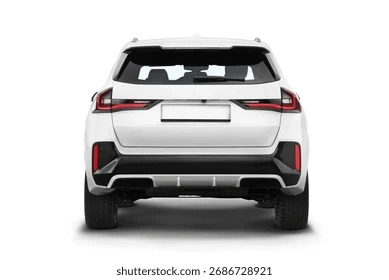car: (81, 32, 305, 237), (82, 34, 305, 234)
